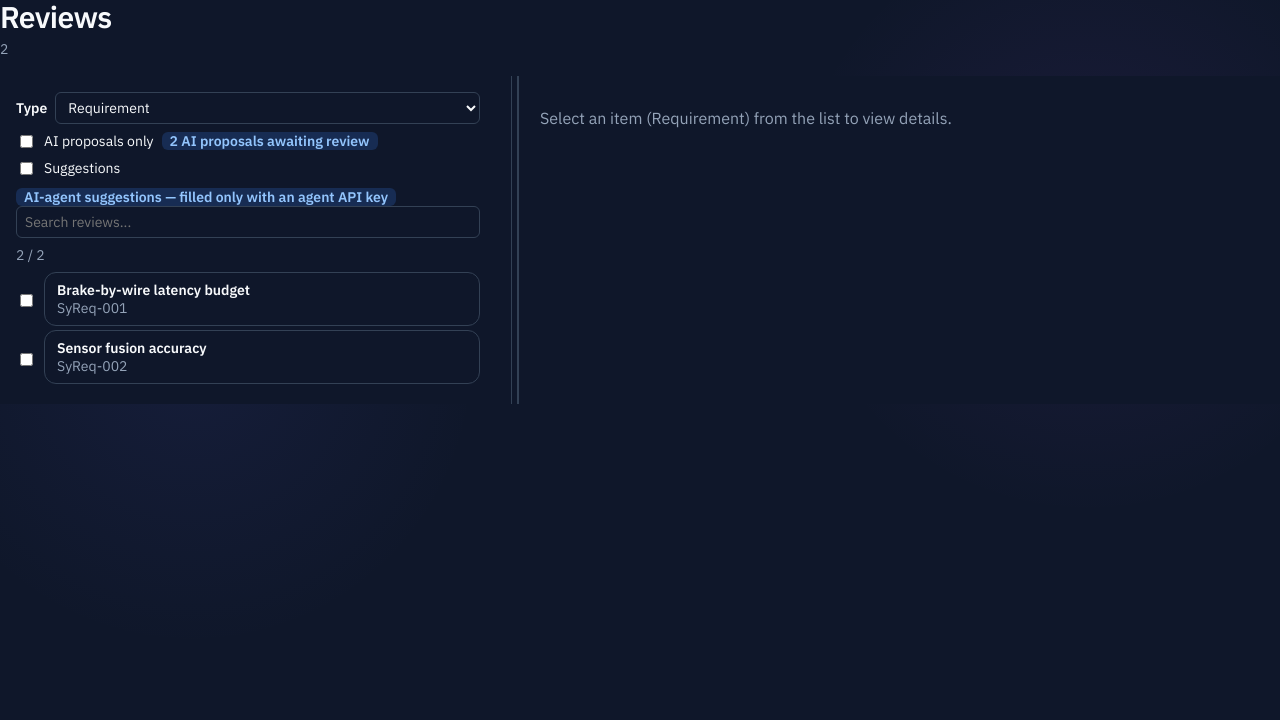
Test: ReviewsView (REQ-144 smoke tests) › [REQ-144] confirming the signature dialog posts the transition with the credential
Expected: the text "Brake-by-wire latency budget" is shown, [57, 280, 250, 298]
Click the button with test id "review-list-item-req-001". click: (154, 290)
box: [44, 272, 480, 326]
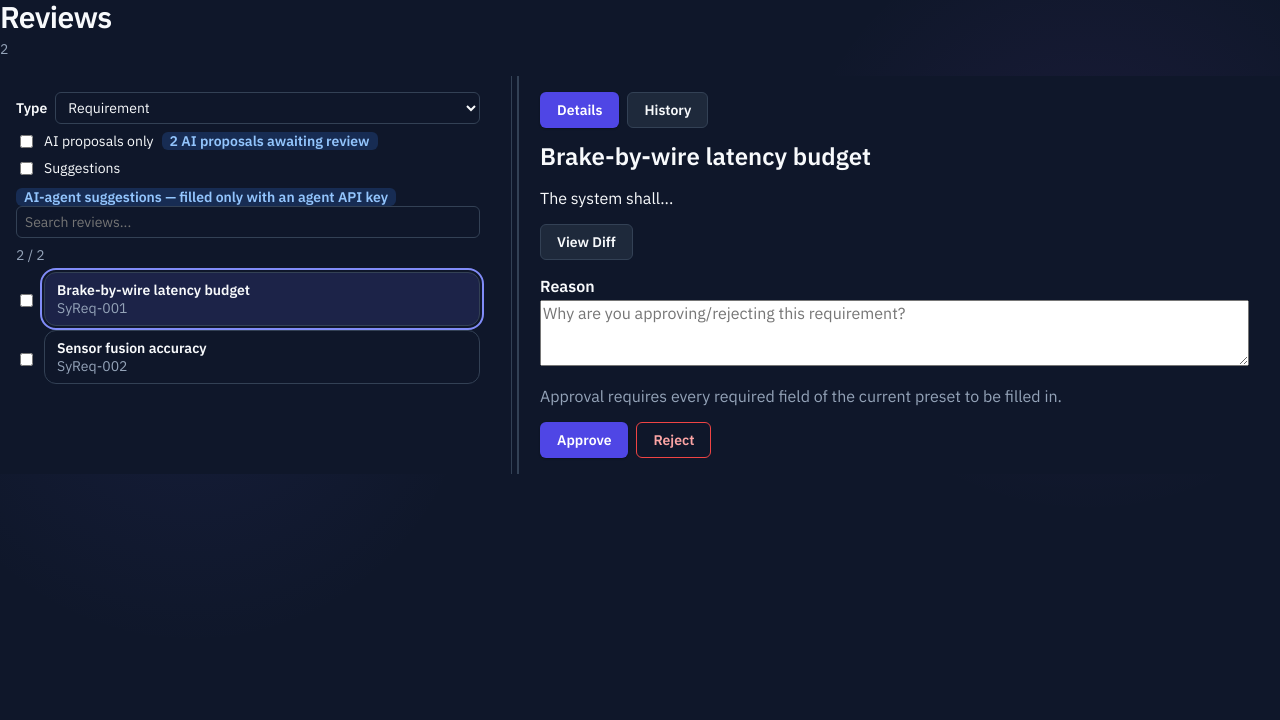
Expected: the button with test id "review-approve-btn" is enabled
Click the button with test id "review-approve-btn". click: (584, 440)
box: [540, 422, 628, 458]
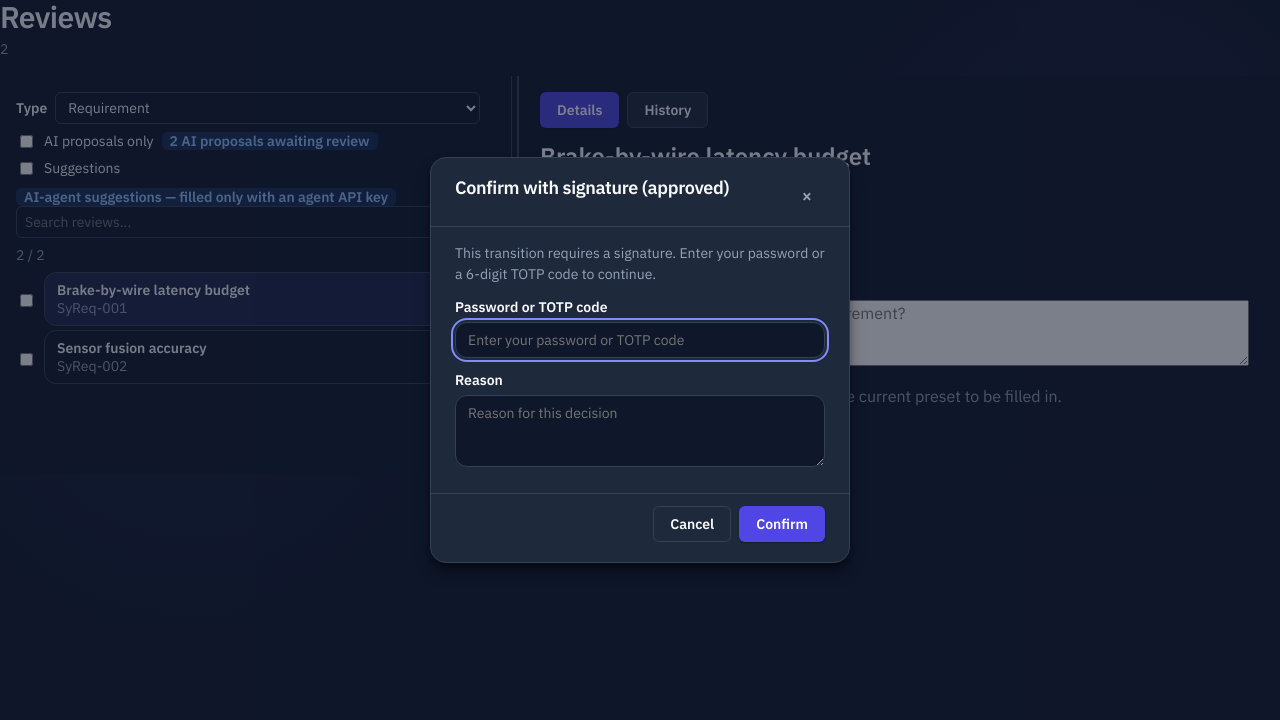
Type "s3cr3t" into the password field with test id "signature-dialog-credential-input". click: (640, 340)
box: [455, 322, 825, 358]
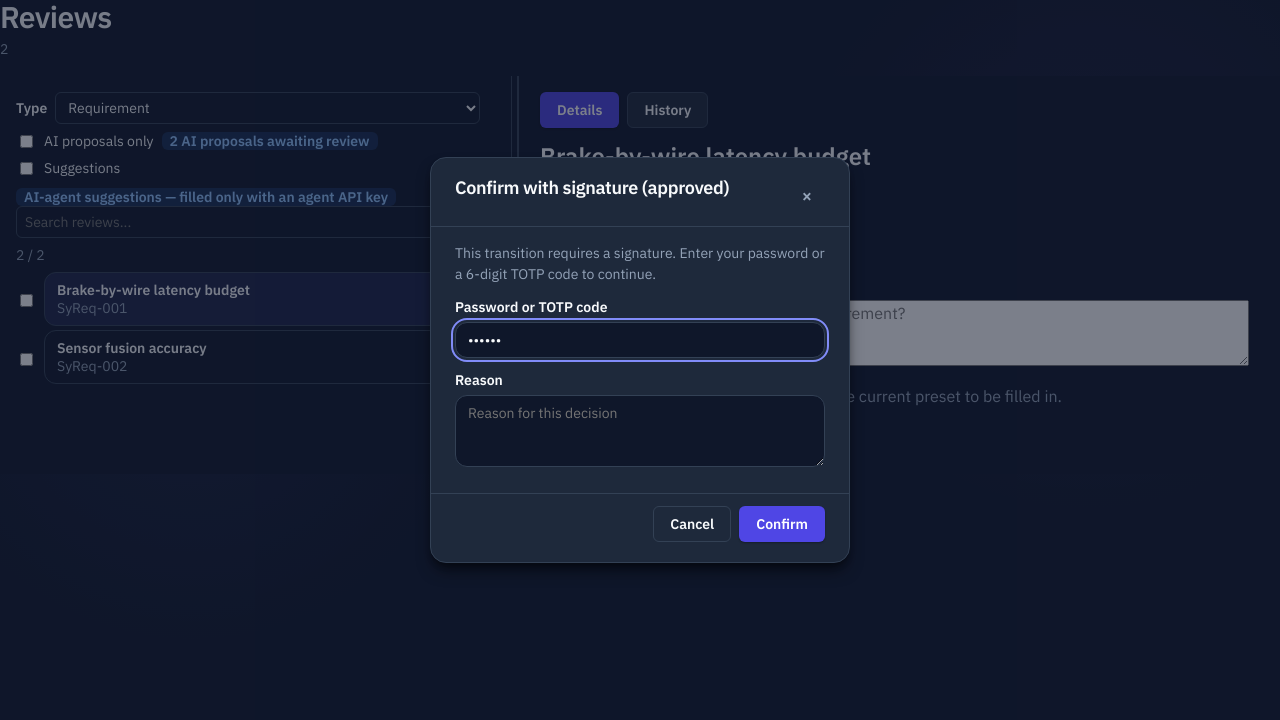
Click the button with test id "signature-dialog-submit". click: (782, 524)
box: [739, 506, 825, 542]
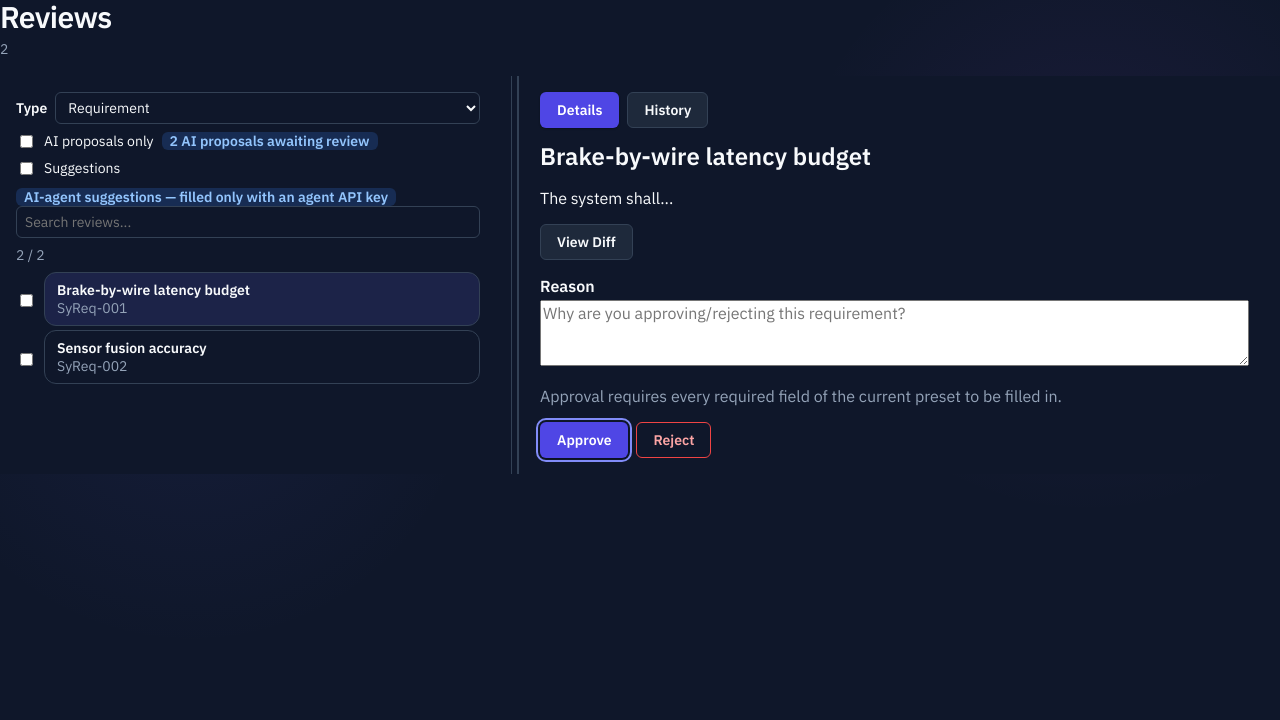
Expected: the dialog with test id "signature-dialog" is gone
